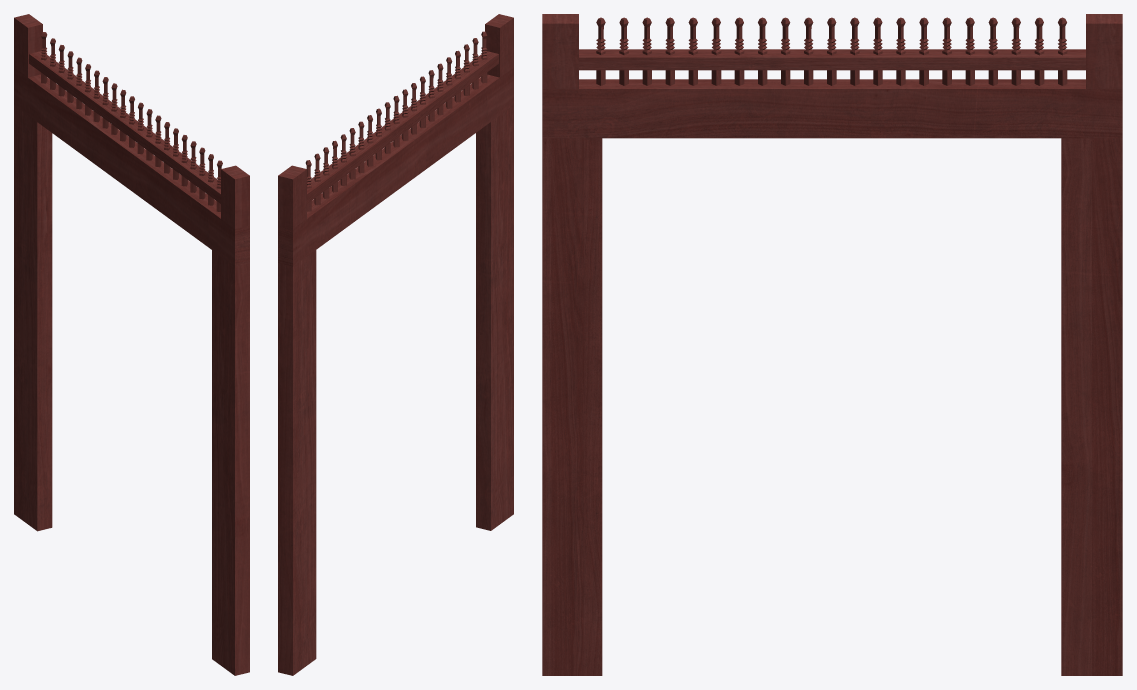
The model's file is SM_DoorFrame01C.fbx.
3 views of the same model, side by side, from view 1: azimuth 30°, elevation 25°; view 2: azimuth 150°, elevation 25°; view 3: azimuth 270°, elevation 25° (orthographic). The views are drawn at different scales.
Visible parts, largest first — view 1: SM_DoorFrame01C; view 2: SM_DoorFrame01C; view 3: SM_DoorFrame01C.
Part boxes in pixels (x1,y1,x2,y2): SM_DoorFrame01C: [14, 14, 249, 675]; SM_DoorFrame01C: [278, 14, 513, 675]; SM_DoorFrame01C: [542, 14, 1122, 675].
Size of the model in its own units: 9.58 by 245 by 304.
